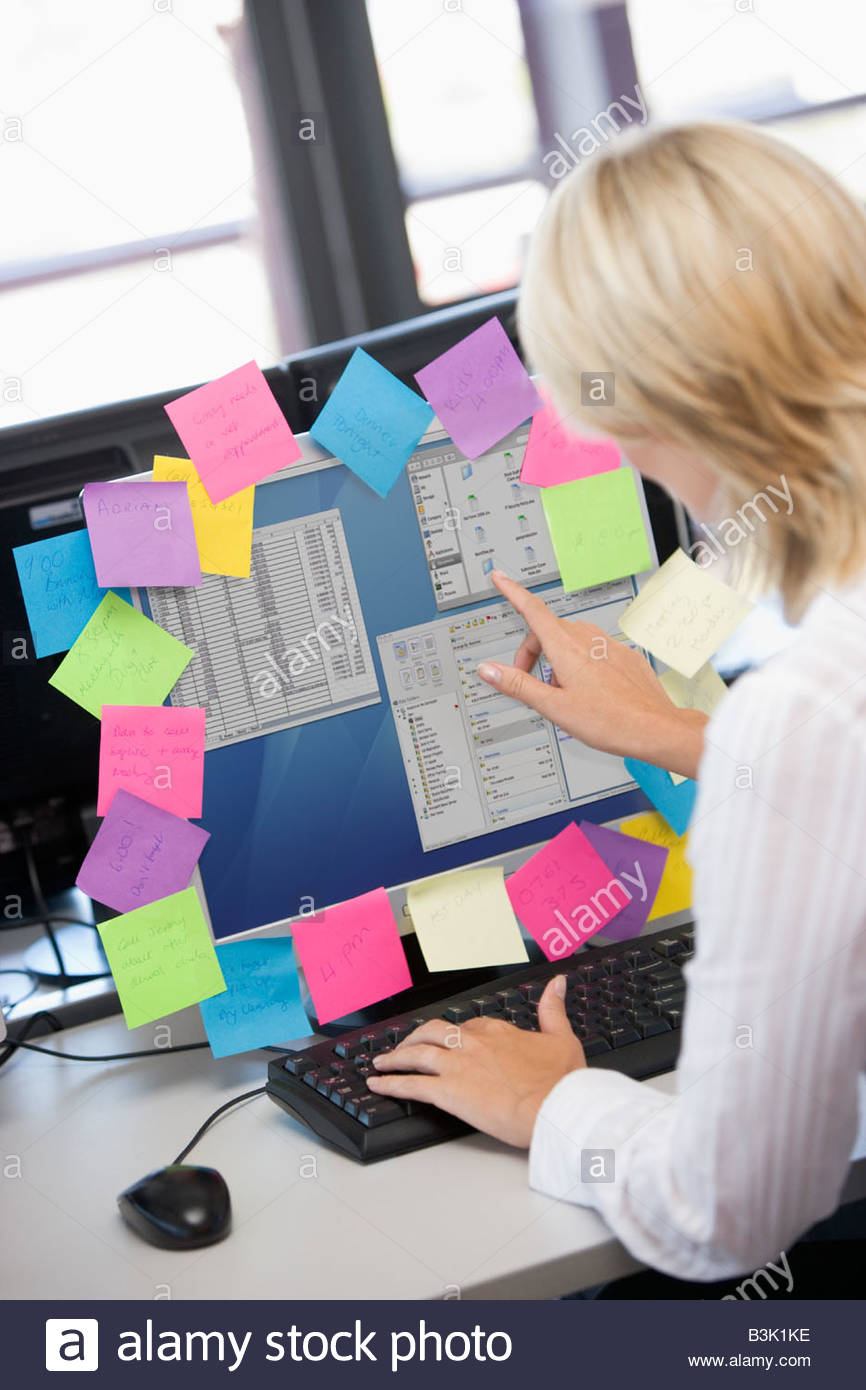Note: (90, 891, 232, 1021), (37, 599, 198, 713), (163, 369, 302, 499), (317, 343, 432, 494), (17, 533, 154, 650), (532, 469, 663, 591), (185, 940, 315, 1062), (622, 550, 749, 674), (76, 796, 205, 916), (295, 894, 415, 1018), (149, 450, 259, 584), (424, 328, 544, 450), (98, 706, 205, 830), (80, 479, 202, 586), (407, 869, 529, 972), (519, 830, 622, 950), (571, 823, 668, 945), (517, 389, 629, 491), (615, 811, 702, 925), (629, 764, 715, 833), (646, 655, 737, 718)
